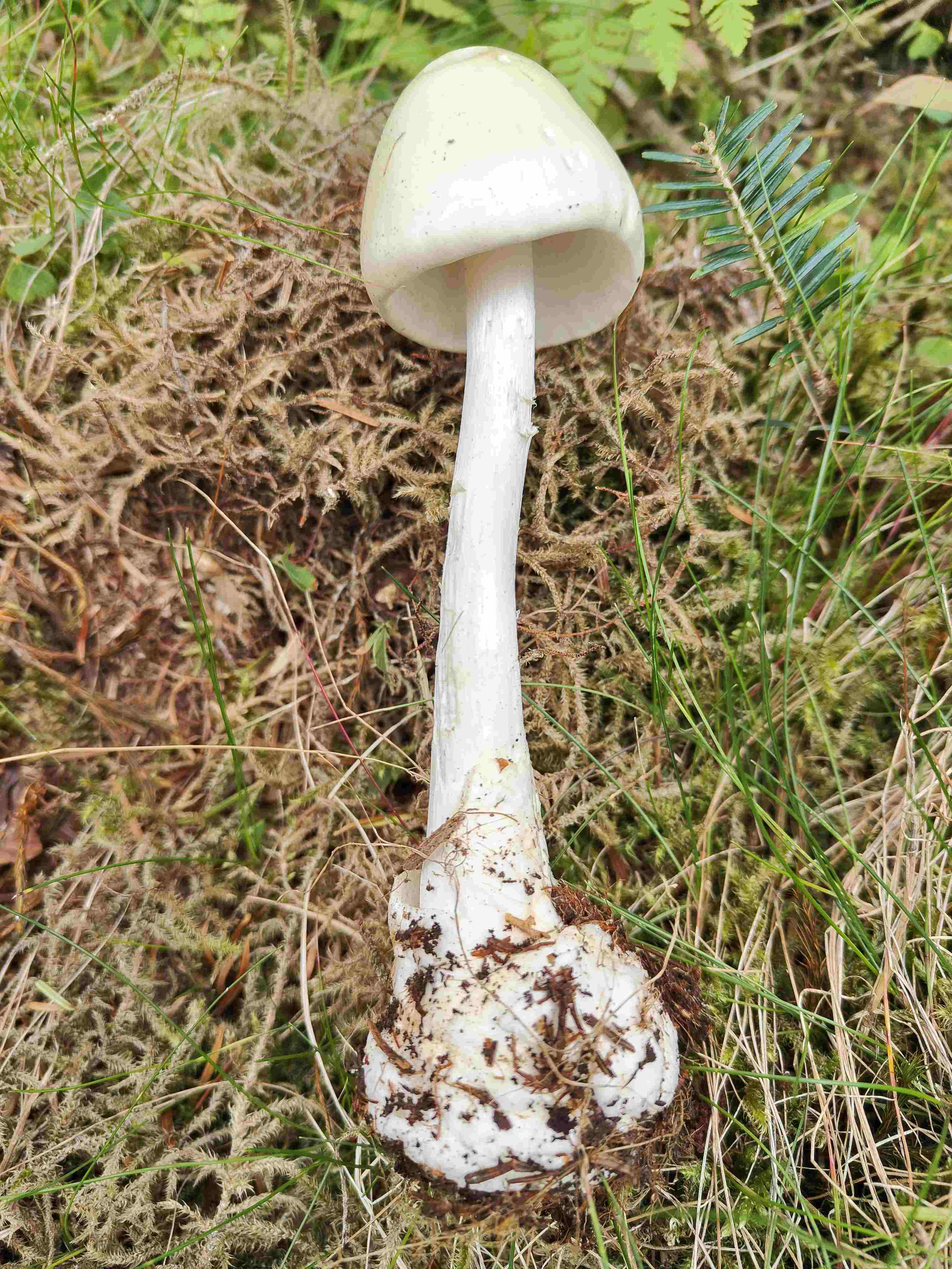cap: (361, 46, 643, 297)
stem: (427, 245, 544, 859)
underside: (527, 230, 643, 349), (373, 257, 476, 352)
